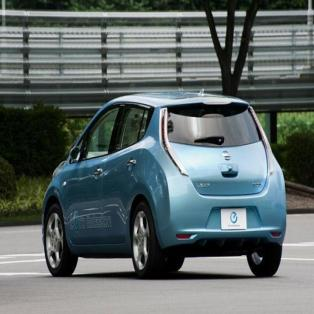Auto: (41, 92, 287, 279)
